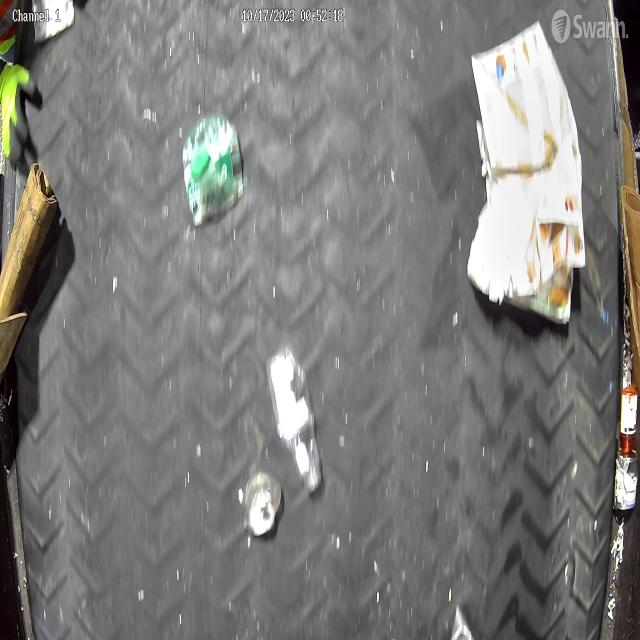can: (613, 448, 640, 510)
plastic_bottle: (266, 345, 321, 493)
